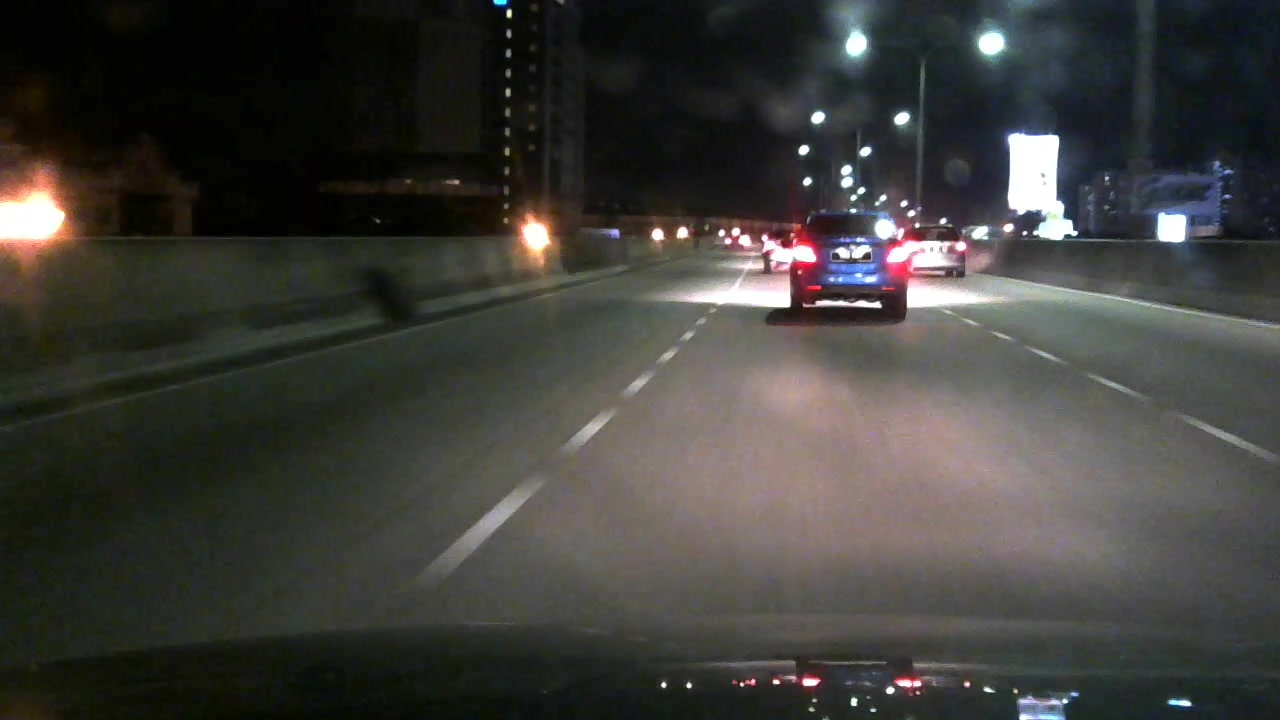Car: (778, 198, 921, 331), (899, 216, 971, 276), (757, 219, 799, 282), (709, 227, 754, 259)
